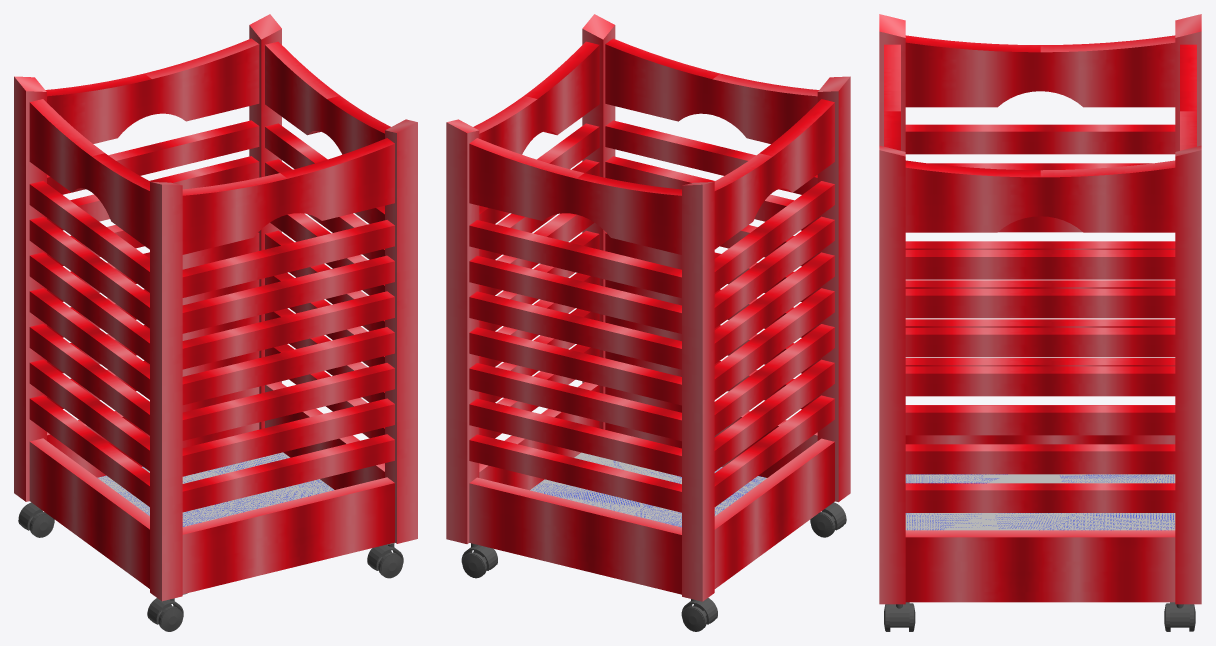
3 views of the same model, side by side, from view 1: azimuth 30°, elevation 25°; view 2: azimuth 150°, elevation 25°; view 3: azimuth 270°, elevation 25° (orthographic). The views are drawn at different scales.
Parts seen in each view (by area): view 1: mesh18.003_mesh18-geometry, mesh9.002_mesh9-geometry, mesh17.003_mesh17-geometry, mesh17.001_mesh17-geometry, mesh15.001_mesh15-geometry, mesh18.002_mesh18-geometry, mesh15.002_mesh15-geometry, mesh17.002_mesh17-geometry, mesh1.001_mesh1-geometry, mesh20.018_mesh20-geometry, mesh20.017_mesh20-geometry, mesh20.020_mesh20-geometry (+28 smaller); view 2: mesh18.001_mesh18-geometry, mesh15.002_mesh15-geometry, mesh17.001_mesh17-geometry, mesh17.003_mesh17-geometry, mesh9.001_mesh9-geometry, mesh18.002_mesh18-geometry, mesh9.002_mesh9-geometry, mesh17.002_mesh17-geometry, mesh1.001_mesh1-geometry, mesh20.006_mesh20-geometry, mesh20.005_mesh20-geometry, mesh20.003_mesh20-geometry (+28 smaller); view 3: mesh2.001_mesh2-geometry, mesh17.002_mesh17-geometry, mesh1.001_mesh1-geometry, mesh15.001_mesh15-geometry, mesh9.001_mesh9-geometry, mesh4.007_mesh4-geometry, mesh4.006_mesh4-geometry, mesh4.005_mesh4-geometry, mesh4.003_mesh4-geometry, mesh20.012_mesh20-geometry, mesh4.004_mesh4-geometry, mesh4.002_mesh4-geometry (+15 smaller).
Boxes of the visible parts, bbox=[...] form: mesh18.003_mesh18-geometry: bbox=[182, 477, 394, 594]; mesh9.002_mesh9-geometry: bbox=[150, 181, 182, 601]; mesh17.003_mesh17-geometry: bbox=[182, 138, 394, 254]; mesh17.001_mesh17-geometry: bbox=[45, 38, 259, 143]; mesh15.001_mesh15-geometry: bbox=[385, 119, 417, 543]; mesh18.002_mesh18-geometry: bbox=[29, 438, 149, 588]; mesh15.002_mesh15-geometry: bbox=[14, 76, 46, 501]; mesh17.002_mesh17-geometry: bbox=[29, 99, 149, 249]; mesh1.001_mesh1-geometry: bbox=[265, 41, 390, 154]; mesh20.018_mesh20-geometry: bbox=[182, 291, 394, 369]; mesh20.017_mesh20-geometry: bbox=[182, 398, 394, 476]; mesh20.020_mesh20-geometry: bbox=[182, 327, 394, 404]; mesh18.001_mesh18-geometry: bbox=[469, 477, 681, 594]; mesh15.002_mesh15-geometry: bbox=[682, 182, 714, 601]; mesh17.001_mesh17-geometry: bbox=[469, 138, 681, 254]; mesh17.003_mesh17-geometry: bbox=[605, 38, 818, 143]; mesh9.001_mesh9-geometry: bbox=[446, 119, 479, 543]; mesh18.002_mesh18-geometry: bbox=[714, 438, 834, 588]; mesh9.002_mesh9-geometry: bbox=[817, 76, 850, 502]; mesh17.002_mesh17-geometry: bbox=[714, 99, 834, 249]; mesh1.001_mesh1-geometry: bbox=[473, 41, 599, 154]; mesh20.006_mesh20-geometry: bbox=[469, 327, 681, 405]; mesh20.005_mesh20-geometry: bbox=[469, 220, 681, 298]; mesh20.003_mesh20-geometry: bbox=[469, 398, 681, 476]; mesh2.001_mesh2-geometry: bbox=[905, 530, 1175, 602]; mesh17.002_mesh17-geometry: bbox=[905, 35, 1175, 107]; mesh1.001_mesh1-geometry: bbox=[905, 160, 1175, 232]; mesh15.001_mesh15-geometry: bbox=[879, 145, 905, 604]; mesh9.001_mesh9-geometry: bbox=[1175, 145, 1201, 604]; mesh4.007_mesh4-geometry: bbox=[905, 405, 1175, 435]; mesh4.006_mesh4-geometry: bbox=[905, 366, 1175, 396]; mesh4.005_mesh4-geometry: bbox=[905, 249, 1175, 279]; mesh4.003_mesh4-geometry: bbox=[905, 444, 1175, 474]; mesh20.012_mesh20-geometry: bbox=[905, 124, 1175, 154]; mesh4.004_mesh4-geometry: bbox=[905, 327, 1175, 357]; mesh4.002_mesh4-geometry: bbox=[905, 288, 1175, 318].
Size of the model in its own units: 0.4554 by 0.766 by 0.4537.
